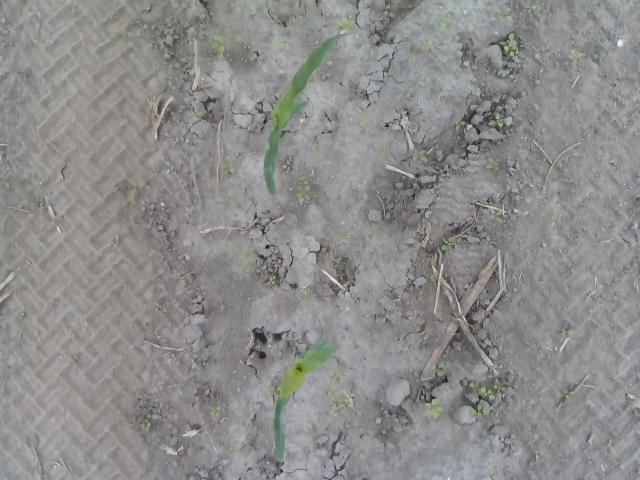Maize: (264, 32, 352, 198), (272, 339, 338, 461)
Weeds: (462, 378, 506, 419), (327, 366, 360, 417), (126, 178, 150, 204), (209, 34, 233, 57), (485, 112, 515, 130), (240, 244, 258, 274), (498, 32, 520, 56), (422, 398, 444, 418), (294, 182, 311, 206), (373, 142, 391, 160), (568, 48, 585, 66), (220, 160, 236, 176), (432, 360, 446, 378), (232, 0, 240, 31), (337, 18, 352, 34), (271, 35, 289, 48), (398, 51, 416, 63), (559, 326, 577, 338), (412, 148, 427, 162), (302, 292, 318, 305), (496, 12, 513, 24), (267, 384, 279, 400), (442, 238, 454, 254), (418, 76, 432, 88), (222, 239, 234, 252), (210, 404, 221, 418), (438, 15, 452, 26), (246, 4, 258, 16), (223, 192, 235, 204), (267, 273, 278, 286), (142, 418, 152, 432), (484, 158, 498, 168), (338, 231, 352, 241), (358, 115, 369, 126), (455, 119, 467, 129), (564, 391, 576, 401), (486, 458, 496, 470), (419, 42, 434, 49), (496, 214, 506, 224), (574, 184, 584, 194), (313, 144, 321, 156), (619, 198, 628, 208), (229, 448, 240, 456), (279, 6, 290, 14), (554, 212, 560, 224), (190, 110, 198, 118), (430, 276, 438, 282)
